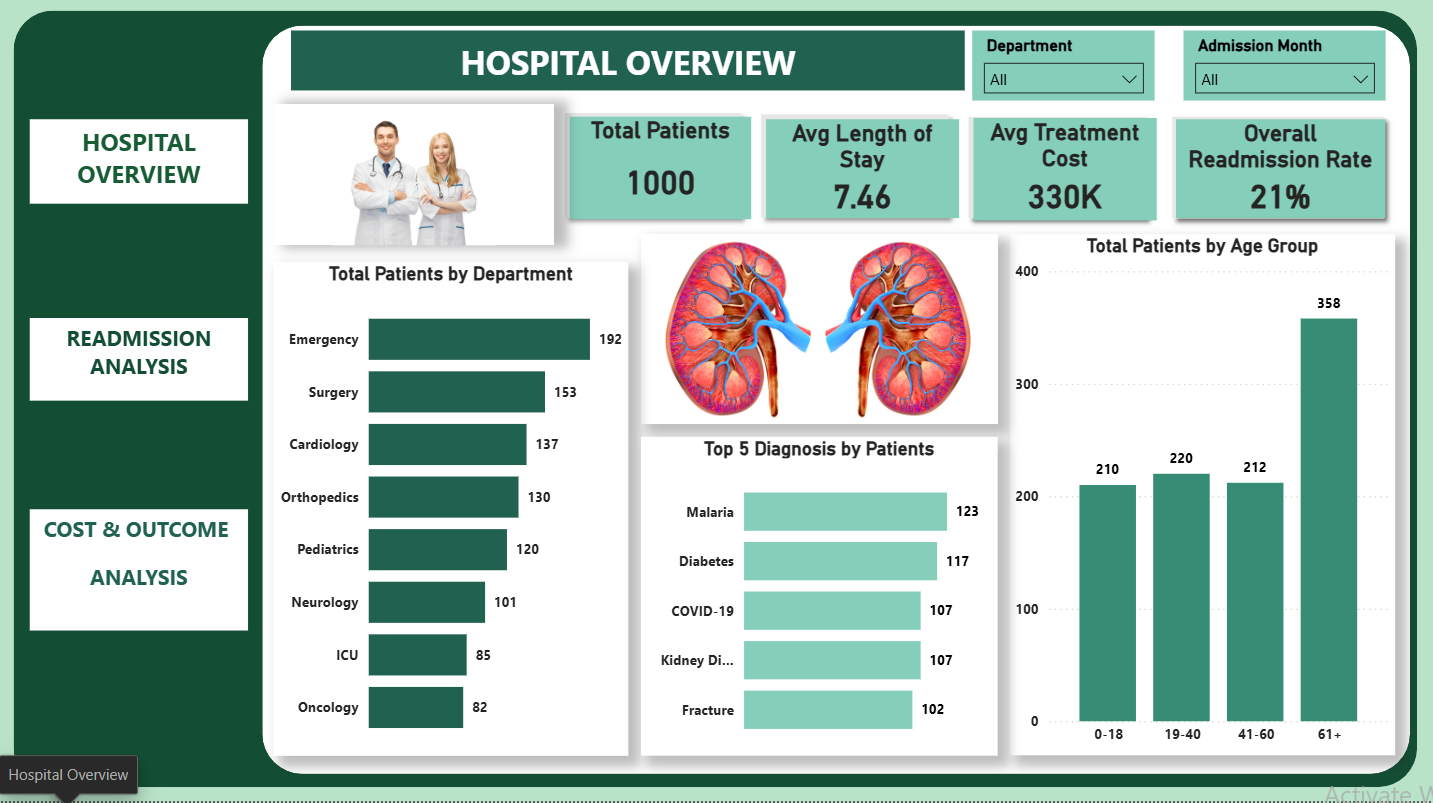

The page's visual inventory and layout, read from the dashboard file:
{"tool":"powerbi","page":{"name":"Hospital Overview","canvas":[1280,720],"ordinal":0},"visuals":[{"type":"shape","box":[15.3,15.3,1250,691.7],"z":0},{"type":"shape","box":[237.5,29.2,1022.2,666.7],"z":1000},{"type":"shape","box":[497.8,98.1,174.6,111.1],"z":2000},{"type":"shape","box":[672.3,99.6,184.7,109.6],"z":3000},{"type":"shape","box":[857,101,176,108.2],"z":4000},{"type":"shape","box":[1038.8,101,206.3,108.2],"z":5000},{"type":"card","title":"Total Patients","fields":{"Values":["hospital_admissions.Total Patients"]},"box":[510.7,109.6,161.6,90.9],"z":6000},{"type":"card","title":"Avg Length of Stay","fields":{"Values":["hospital_admissions.Avg length of stay"]},"box":[685.3,112.5,171.7,88],"z":7000},{"type":"card","title":"Avg Treatment Cost","fields":{"Values":["hospital_admissions.Avg Treatment cost"]},"box":[870,111.1,163,90.9],"z":8000},{"type":"card","title":"Overall Readmission Rate","fields":{"Values":["hospital_admissions.Readmission Rate"]},"box":[1050.3,112.5,186.1,88],"z":9000},{"type":"barChart","fields":{"Category":["hospital_admissions.Department"],"Y":["hospital_admissions.Total Patients"]},"box":[246.7,239.5,316,440],"z":10000},{"type":"columnChart","title":"Total Patients by Age Group","fields":{"Category":["hospital_admissions.Age Group 1"],"Y":["hospital_admissions.Total Patients"]},"box":[902.8,215.3,343.1,463.9],"z":11000},{"type":"slicer","fields":{"Values":["hospital_admissions.Department"]},"box":[869.4,33.3,162.5,62.5],"z":12000},{"type":"image","box":[574.2,215,317.4,168.8],"z":14000},{"type":"image","box":[246.7,99.6,249.6,125.5],"z":15000},{"type":"shape","box":[262.6,33.2,600.2,53.4],"z":16000},{"type":"barChart","title":"Top 5 Diagnosis by Patients","fields":{"Category":["hospital_admissions.Diagnosis"],"Y":["hospital_admissions.Total Patients"]},"box":[574.2,395.3,317.4,284.2],"z":17000},{"type":"shape","box":[30.6,95.8,194.4,108.3],"z":20001},{"type":"shape","box":[30,279.3,195.4,95.9],"z":20002},{"type":"shape","box":[30.6,447.2,194.4,144.4],"z":20003},{"type":"textbox","box":[30.6,459.7,194.4,108.3],"z":20004},{"type":"textbox","box":[30.6,288.9,194.4,73.6],"z":20005},{"type":"textbox","box":[30.6,112.5,194.4,75],"z":20006},{"type":"slicer","fields":{"Values":["hospital_admissions.Admission Month Hierarchy.Admission Month"]},"box":[1057.5,33.4,180.3,62.3],"z":20007}]}

Visuals, with their boxes on the page's 1280x720 design canvas (x1, y1, x2, y2). These are canvas units, not pixel positions in the 1433x803 screenshot, which may show the page scaled, cropped or inside an application window:
shape: locate(15, 15, 1265, 707)
shape: locate(238, 29, 1260, 696)
shape: locate(498, 98, 672, 209)
shape: locate(672, 100, 857, 209)
shape: locate(857, 101, 1033, 209)
shape: locate(1039, 101, 1245, 209)
"Total Patients" card: locate(511, 110, 672, 200)
"Avg Length of Stay" card: locate(685, 112, 857, 200)
"Avg Treatment Cost" card: locate(870, 111, 1033, 202)
"Overall Readmission Rate" card: locate(1050, 112, 1236, 200)
barChart - hospital_admissions.Department x hospital_admissions.Total Patients: locate(247, 240, 563, 680)
"Total Patients by Age Group" columnChart: locate(903, 215, 1246, 679)
slicer - hospital_admissions.Department: locate(869, 33, 1032, 96)
image: locate(574, 215, 892, 384)
image: locate(247, 100, 496, 225)
shape: locate(263, 33, 863, 87)
"Top 5 Diagnosis by Patients" barChart: locate(574, 395, 892, 680)
shape: locate(31, 96, 225, 204)
shape: locate(30, 279, 225, 375)
shape: locate(31, 447, 225, 592)
textbox: locate(31, 460, 225, 568)
textbox: locate(31, 289, 225, 362)
textbox: locate(31, 112, 225, 188)
slicer - hospital_admissions.Admission Month Hierarchy.Admission Month: locate(1058, 33, 1238, 96)
